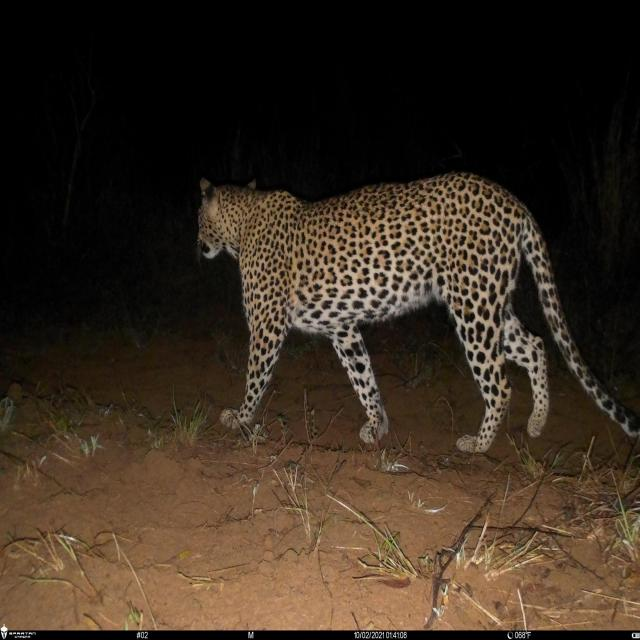Leopard: (188, 170, 636, 467)
